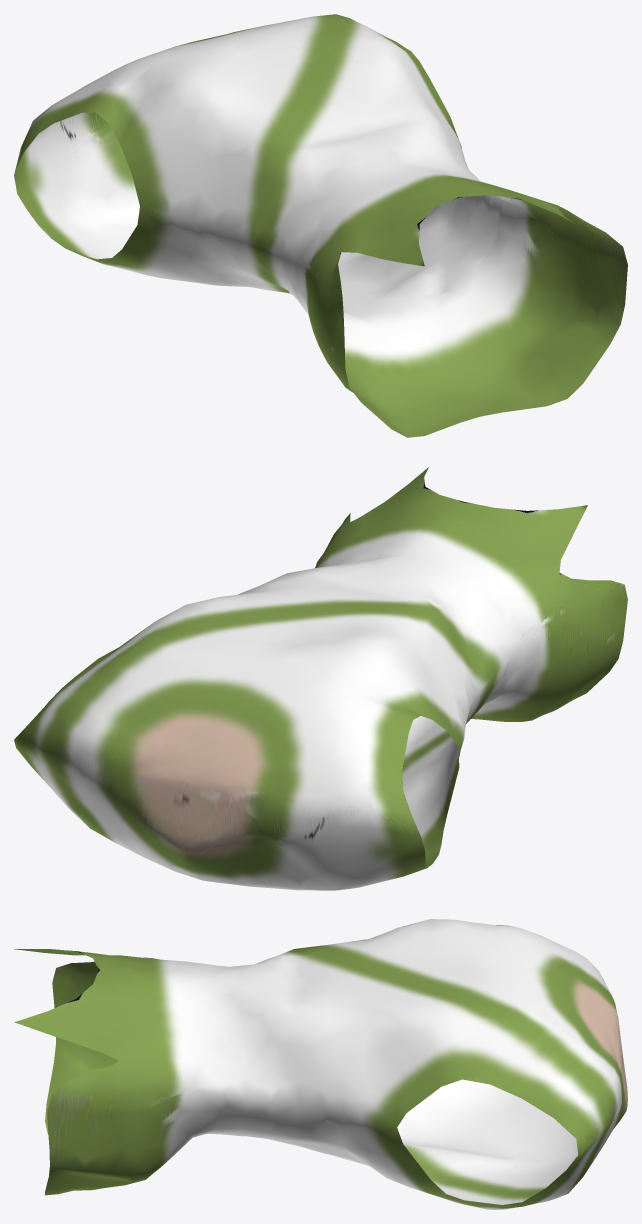
Rendered from ShirtTest.FBX.
3 views of the same model, one above another, from view 1: azimuth 30°, elevation 25°; view 2: azimuth 150°, elevation 25°; view 3: azimuth 270°, elevation 25° (orthographic). The views are drawn at different scales.
Visible parts, largest first — view 1: Shirt; view 2: Shirt; view 3: Shirt.
Boxes of the visible parts, x1,y1,x2,y2 form: Shirt: (14, 14, 627, 437); Shirt: (14, 467, 627, 890); Shirt: (14, 919, 627, 1209).
Bounding box in the file's own units: 7.89 × 4.05 × 11.03.
Materials: 1 (1 with a texture image).
